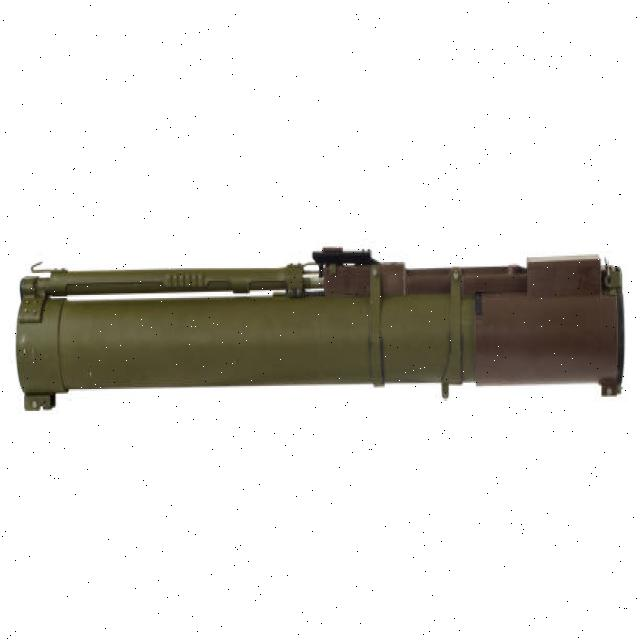bazooka: (11, 241, 635, 435)
